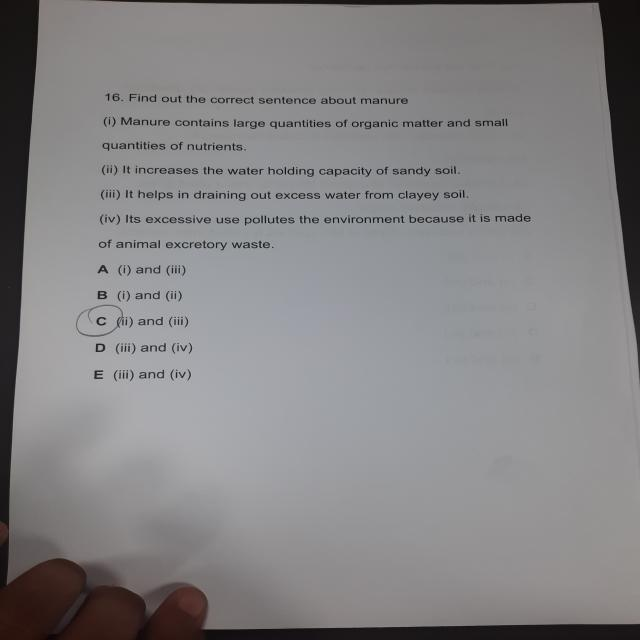C: (73, 304, 128, 340)
